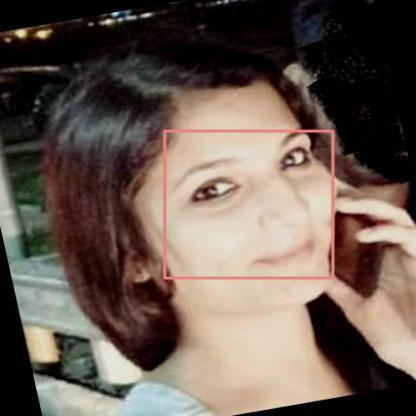without_mask: (165, 131, 333, 278)
